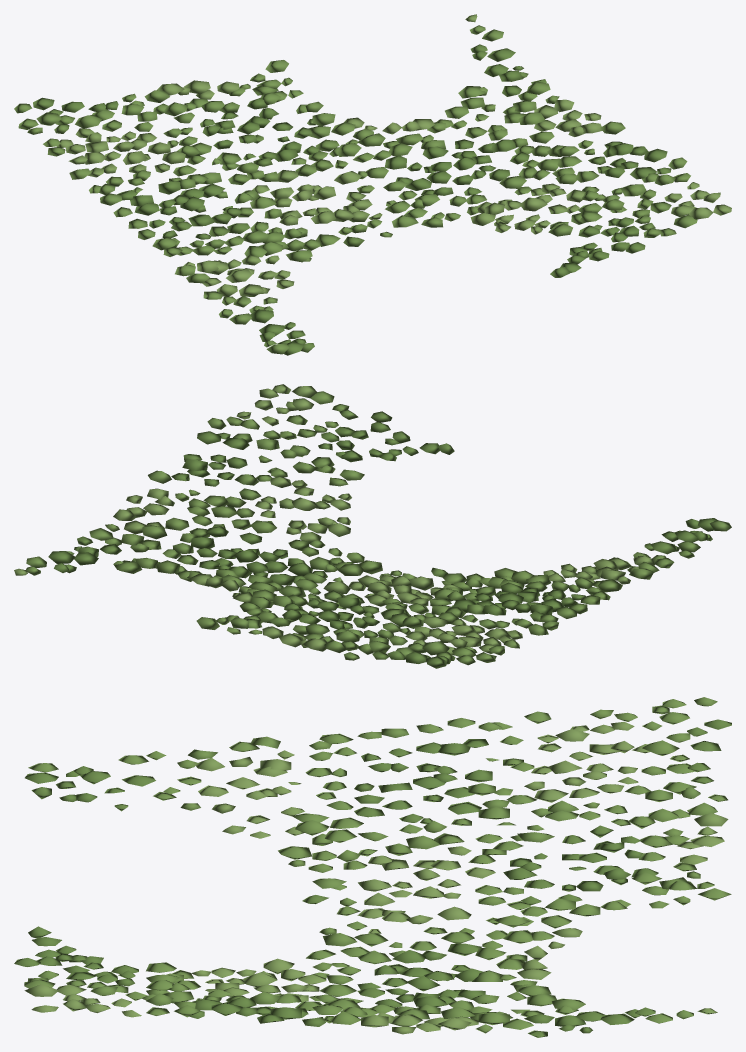
File: canopy-1--5-1.glb
The picture shows the model from 3 angles, top to bottom: view 1: azimuth 30°, elevation 25°; view 2: azimuth 150°, elevation 25°; view 3: azimuth 270°, elevation 25°; orthographic projection. The views are drawn at different scales.
Bounding box in the file's own units: 515 × 80 × 518.
1 material, 1 textured.
